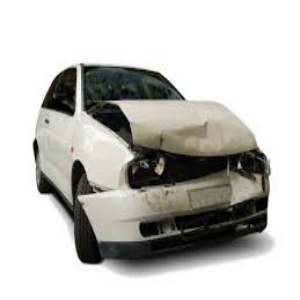bonnet: (107, 94, 258, 154)
bumper: (68, 185, 172, 263)
